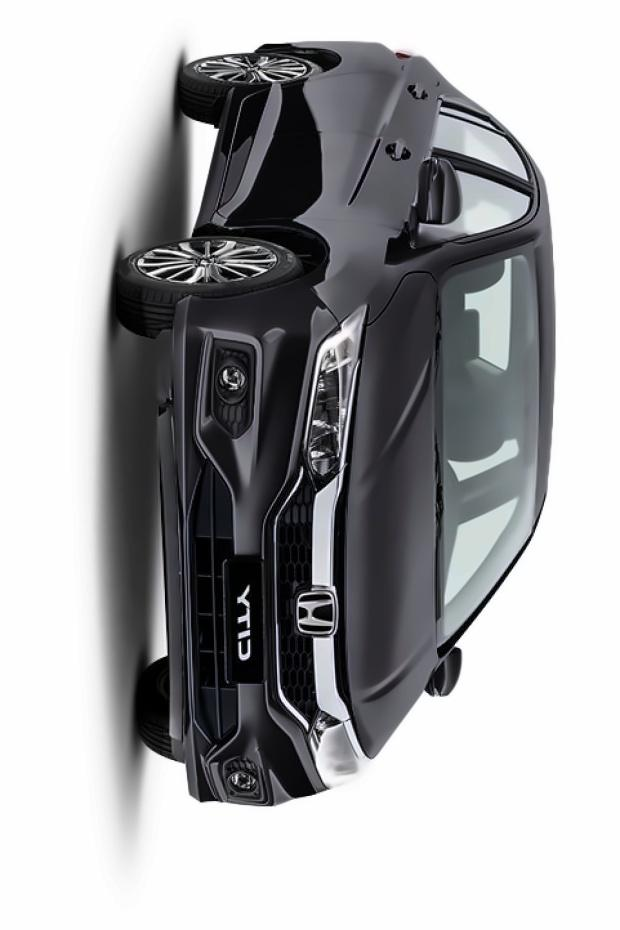Car hood: (344, 260, 444, 764)
Driver-s door - -F-R-: (183, 134, 552, 253)
Fender - -F-R-: (214, 214, 444, 328)
Front bumper: (147, 294, 339, 812)
Headlight - -L-: (306, 712, 371, 790)
Headlight - -R-: (293, 299, 367, 495)
Passenger-s door - -R-R-: (192, 62, 554, 183)
Side bumper - -R-: (173, 73, 292, 244)
Side mirror - -L-: (419, 636, 469, 707)
Side mirror - -R-: (392, 147, 461, 247)
